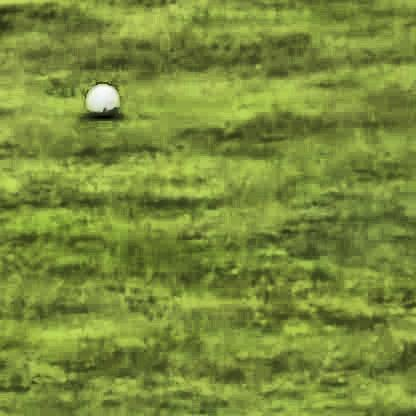golfball: (84, 80, 114, 113)
